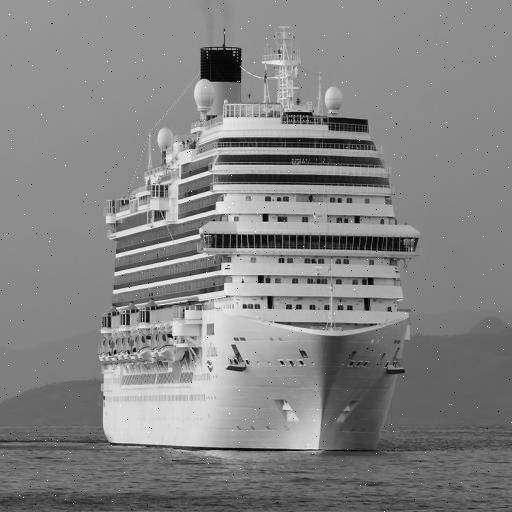cruises: (94, 3, 428, 470)
